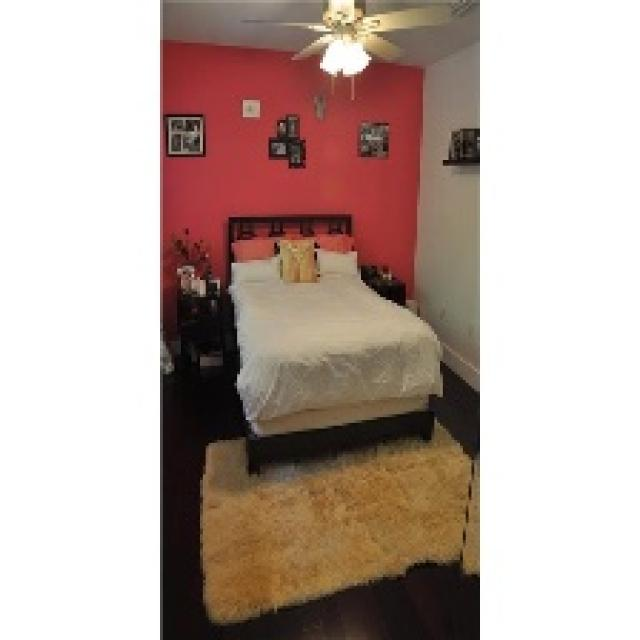Bed: (226, 212, 443, 474)
